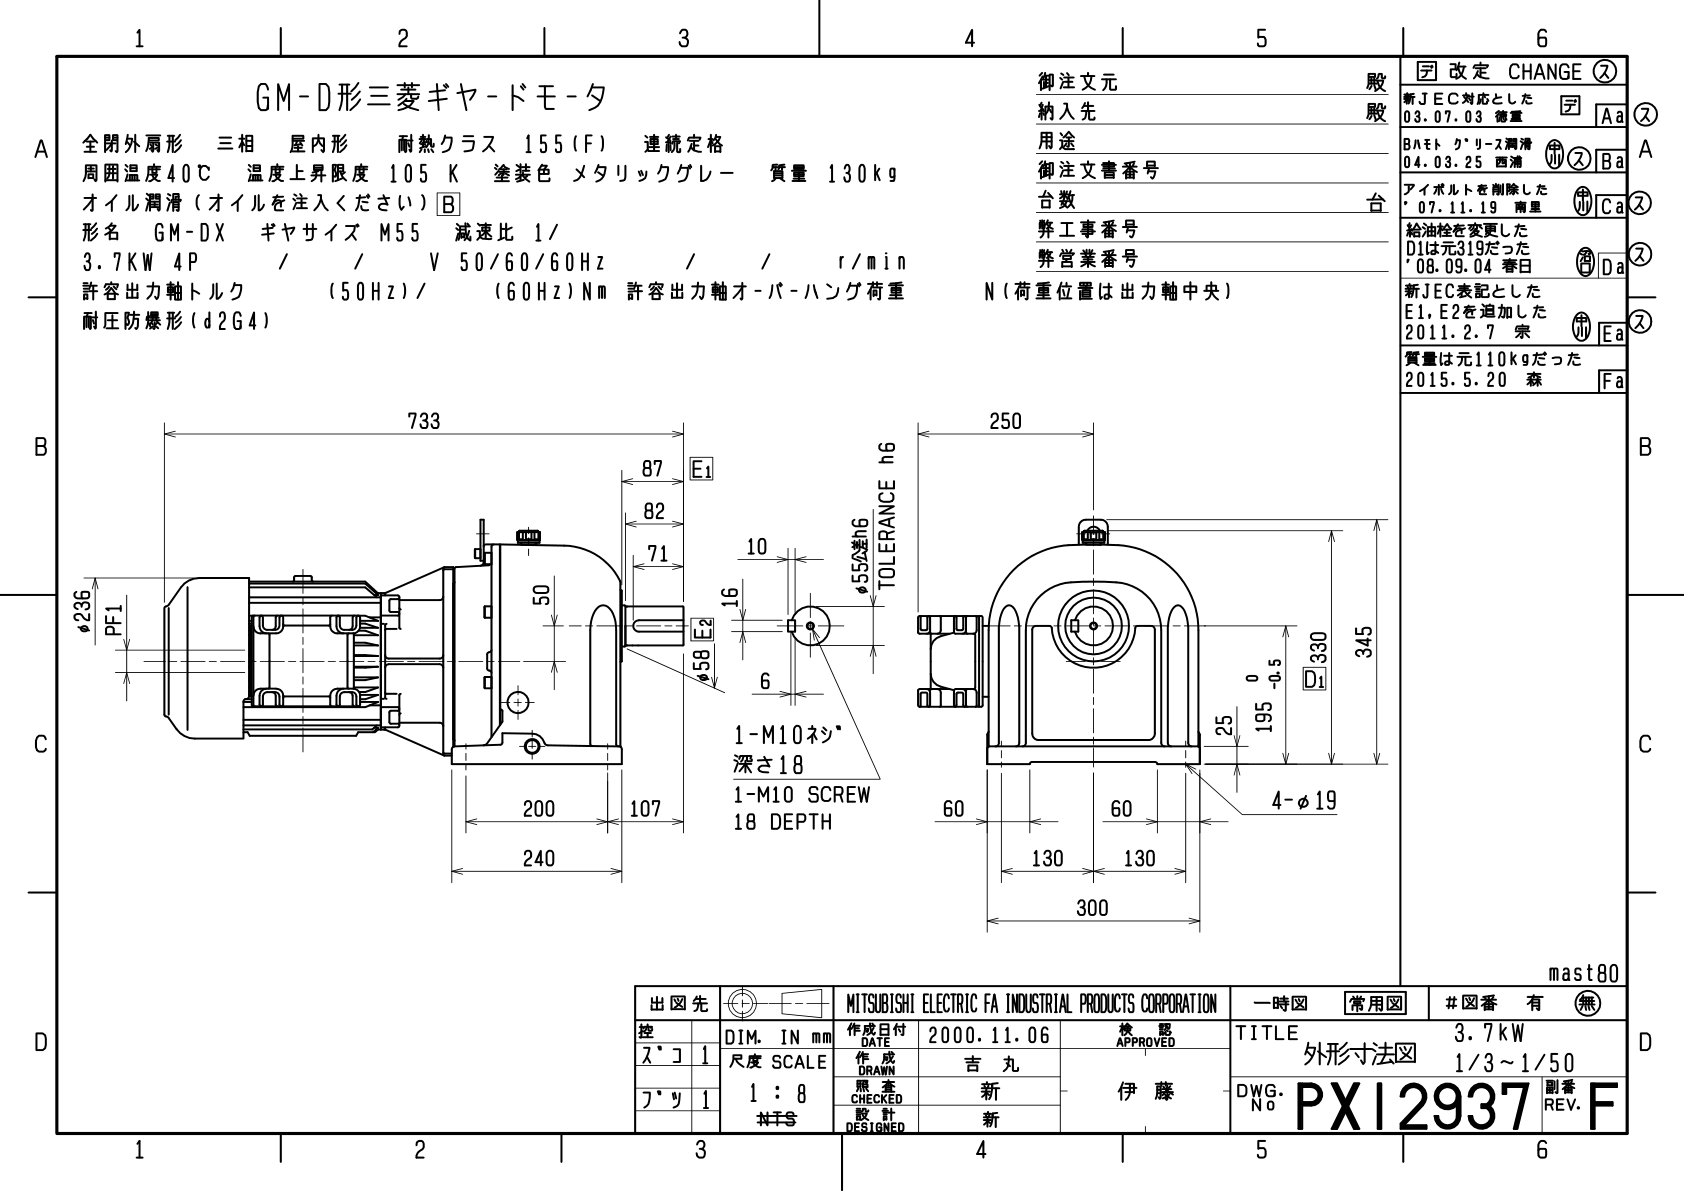GM_D_耐圧屋内_三相_脚: (12, 10, 1684, 1179)
